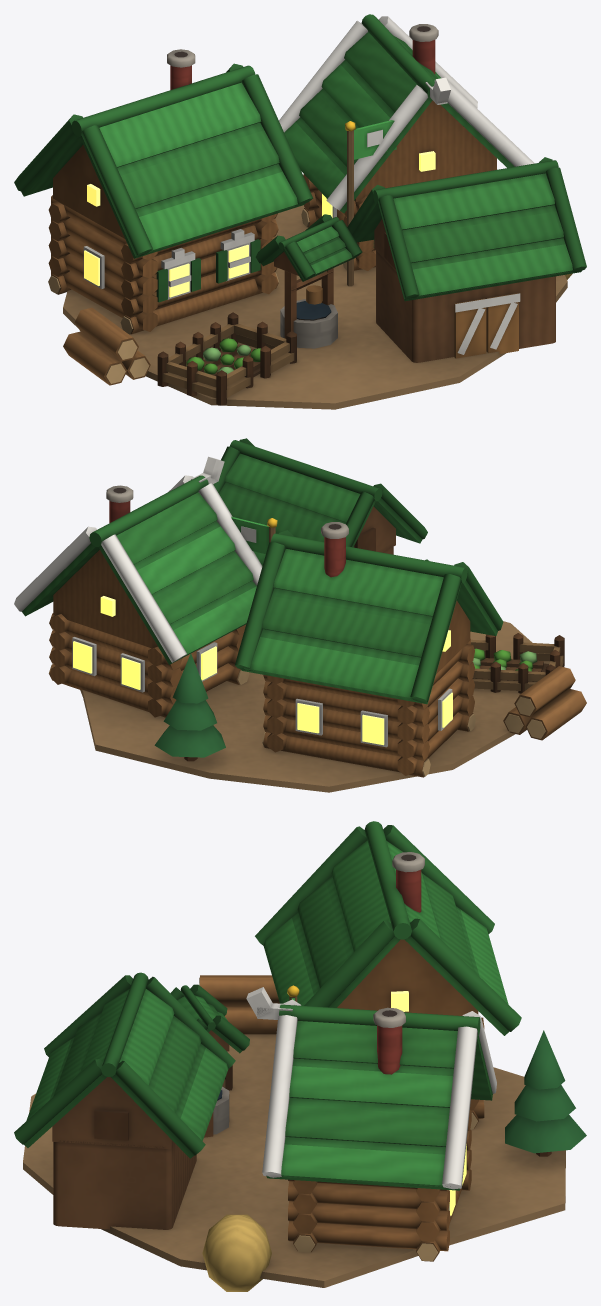
The model's file is city_dl2_green.glb.
3 renders of one model, top to bottom at view 1: azimuth 30°, elevation 25°; view 2: azimuth 150°, elevation 25°; view 3: azimuth 270°, elevation 25°, orthographic. The views are drawn at different scales.
Parts seen in each view (by area): view 1: city_dl2_green; view 2: city_dl2_green; view 3: city_dl2_green.
Part boxes in pixels (box(x1,y1,x2,y2)): city_dl2_green: box(14, 14, 586, 409); city_dl2_green: box(14, 438, 586, 792); city_dl2_green: box(14, 821, 586, 1291).
Size of the model in its own units: 1.48 by 0.7016 by 1.33.
2 materials, 1 textured.
